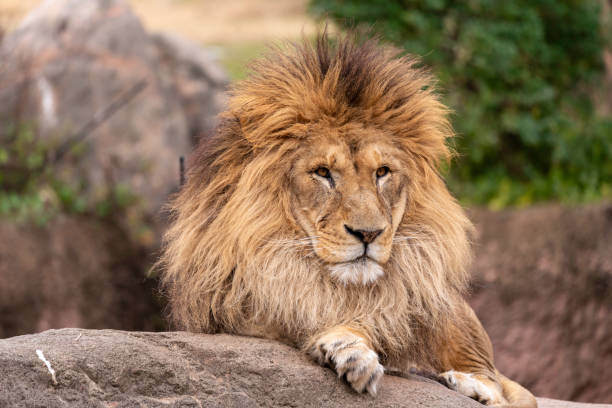lion: (130, 8, 506, 356)
